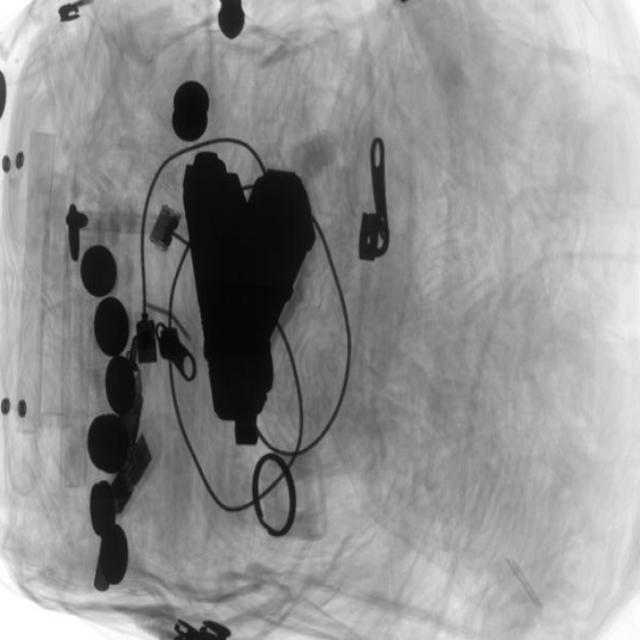GUN: (179, 156, 321, 449)
